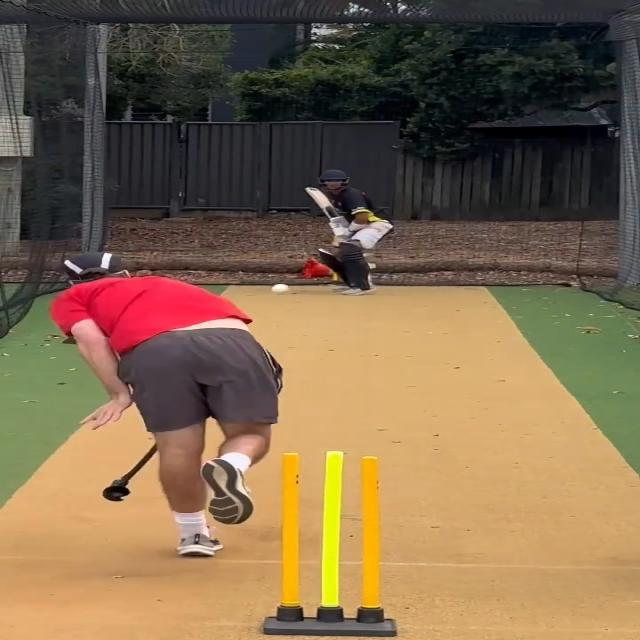ball: (272, 282, 292, 295)
stump: (268, 450, 395, 640)
